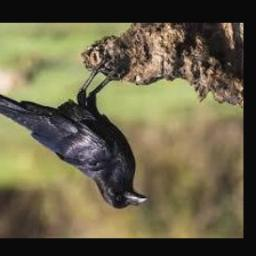Crow: (0, 59, 150, 210)
